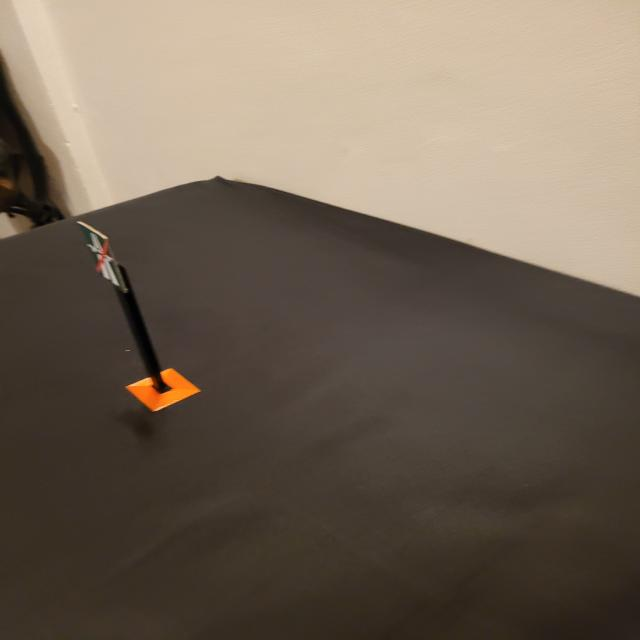highway_exit: (79, 222, 128, 292)
